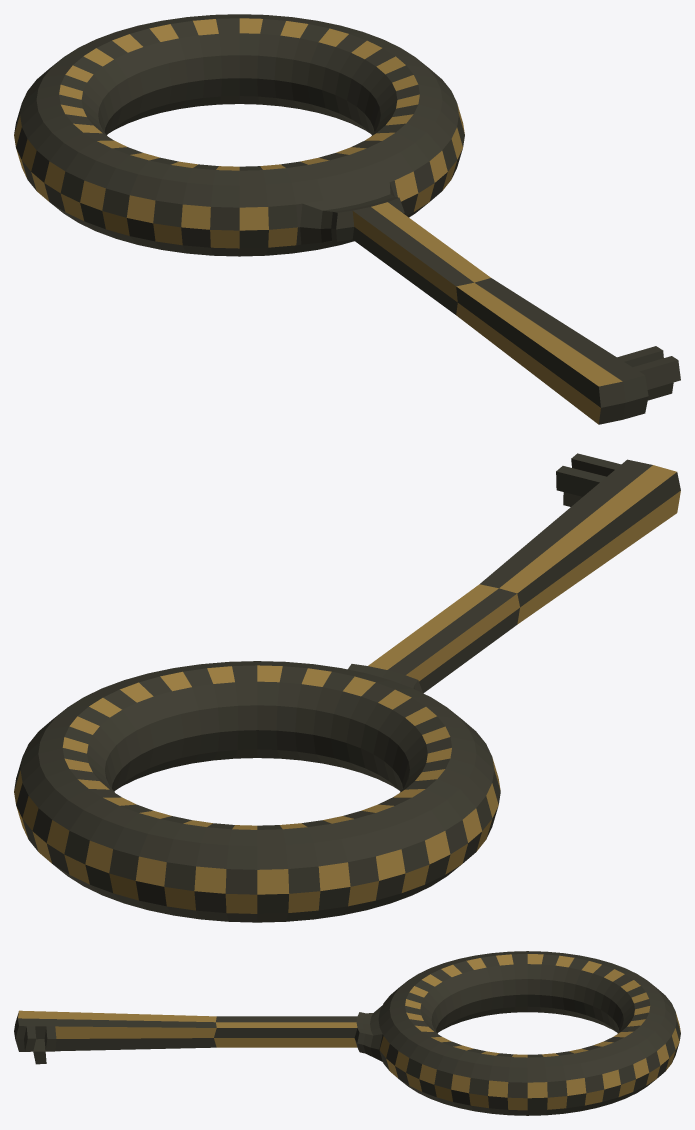
The model's file is MazeKeyv1.glb.
The picture shows the model from 3 angles, top to bottom: view 1: azimuth 30°, elevation 25°; view 2: azimuth 150°, elevation 25°; view 3: azimuth 270°, elevation 25°; orthographic projection. The views are drawn at different scales.
Visible parts, largest first — view 1: Torus; view 2: Torus; view 3: Torus.
Boxes of the visible parts, x1,y1,x2,y2 form: Torus: (14,14,680,424); Torus: (14,453,680,922); Torus: (14,951,680,1115).
Size of the model in its own units: 2.5 by 0.5 by 5.44.
